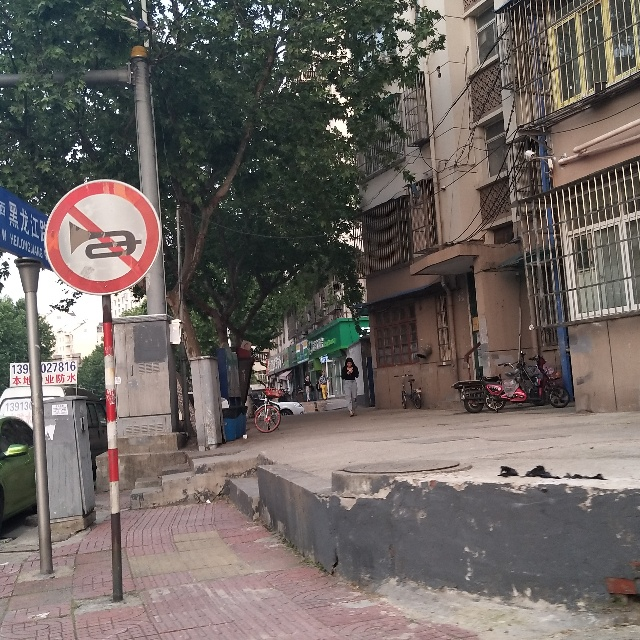nohonk: (44, 179, 161, 294)
